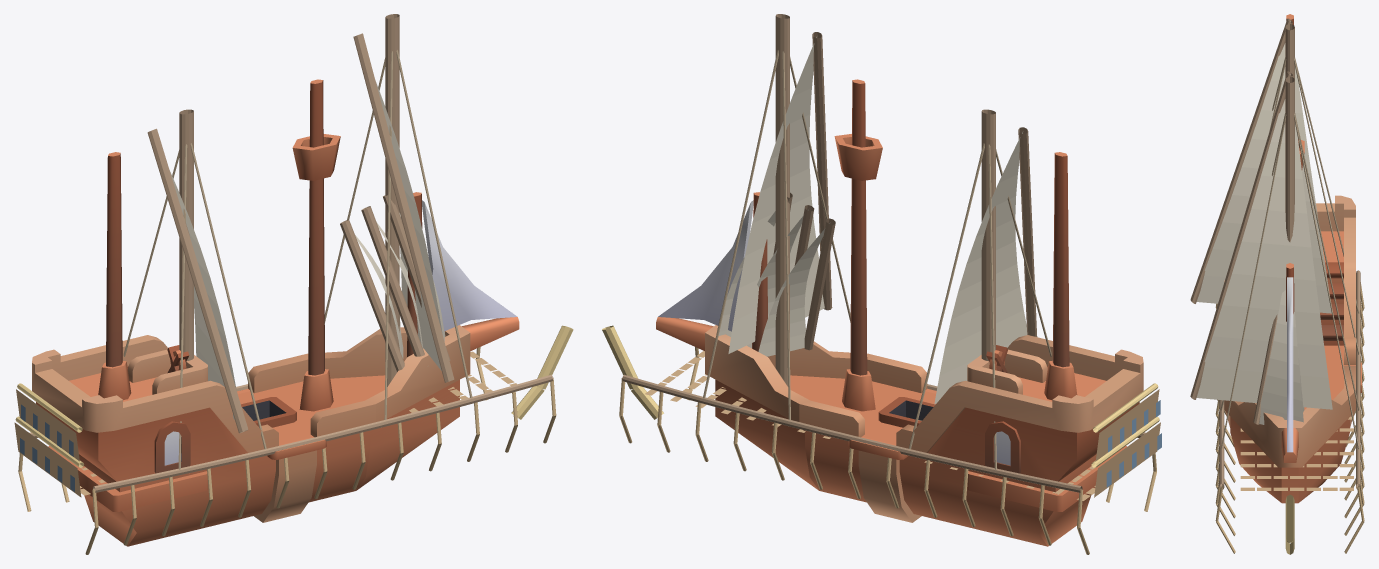
File: new_england_ketch-custom.glb
3 views of the same model, side by side, from view 1: azimuth 30°, elevation 25°; view 2: azimuth 150°, elevation 25°; view 3: azimuth 270°, elevation 25° (orthographic). The views are drawn at different scales.
Visible parts, largest first — view 1: ship-medium, new_england_ketch-custom-geometry; view 2: ship-medium, new_england_ketch-custom-geometry; view 3: new_england_ketch-custom-geometry, ship-medium.
Part boxes in pixels (x1,y1,x2,y2): ship-medium: (32,79,519,546); new_england_ketch-custom-geometry: (14,14,573,554); ship-medium: (656,79,1143,546); new_england_ketch-custom-geometry: (602,14,1161,554); new_england_ketch-custom-geometry: (1190,18,1364,554); ship-medium: (1224,14,1361,503).
Bounding box in the file's own units: 35.13 × 29 × 10.48.
Materials: 8 (1 with a texture image).
